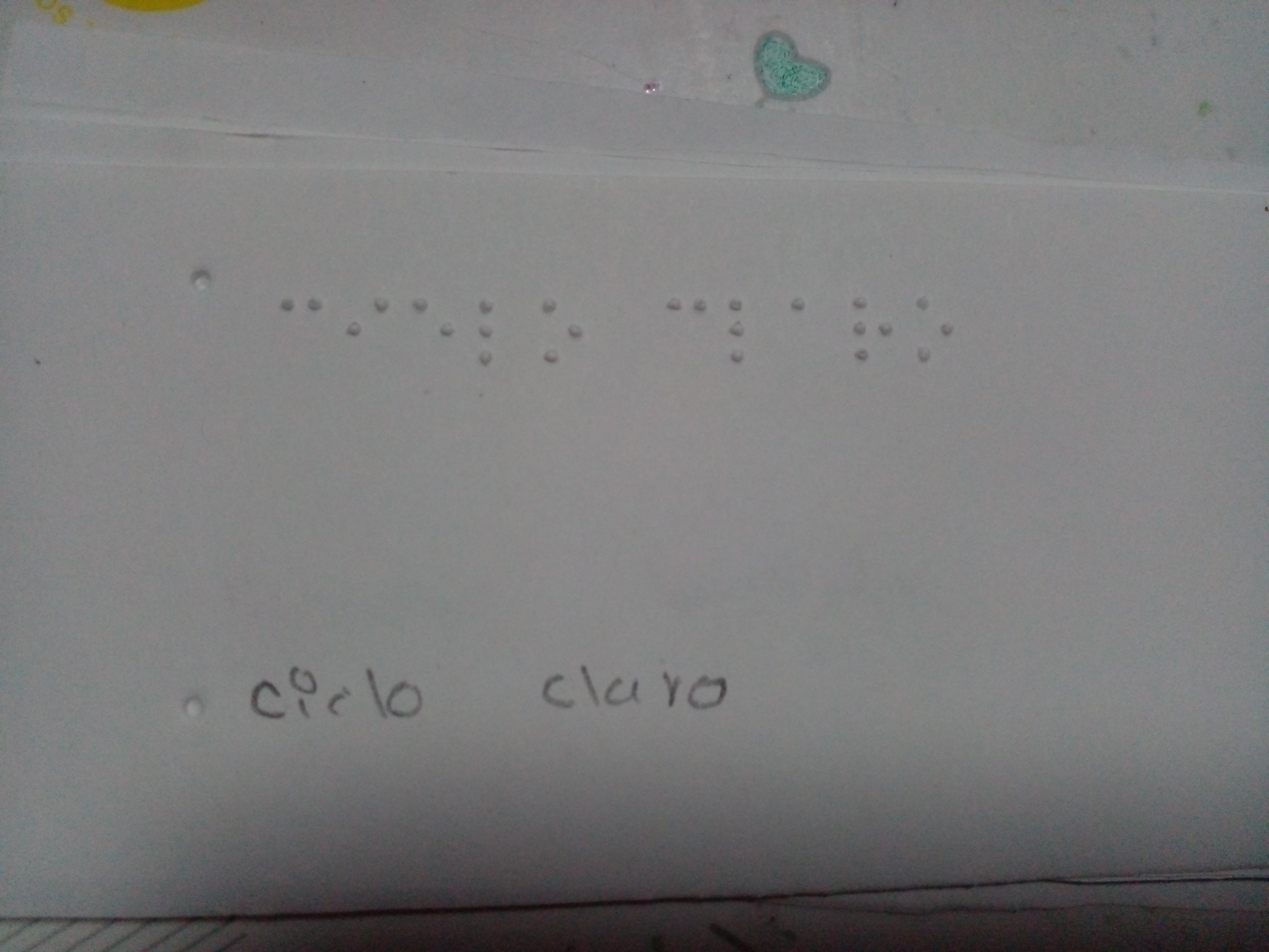a: (775, 288, 819, 328)
c: (259, 273, 333, 344), (398, 287, 460, 356), (661, 290, 714, 342)
i: (347, 284, 400, 352)
l: (472, 291, 497, 378), (730, 284, 753, 373)
o: (517, 265, 593, 386), (908, 291, 960, 370)
r: (847, 294, 895, 364)
